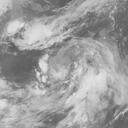cyclone: (38, 35, 121, 119)
